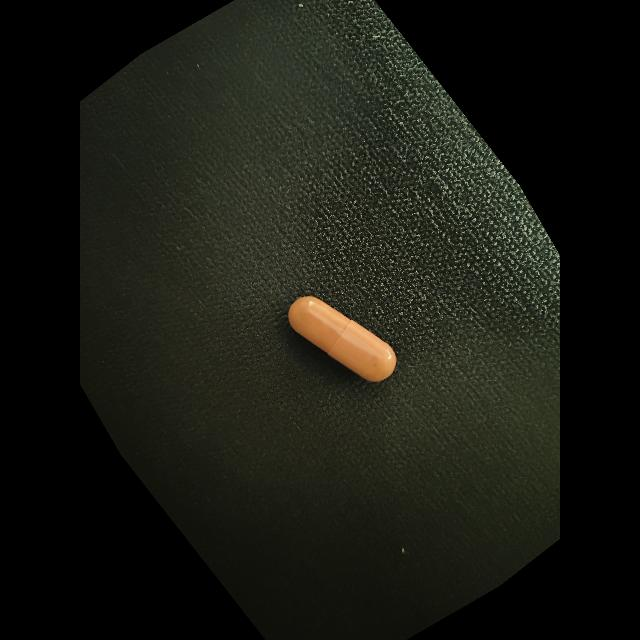Intact Capsule: (288, 296, 396, 382)
